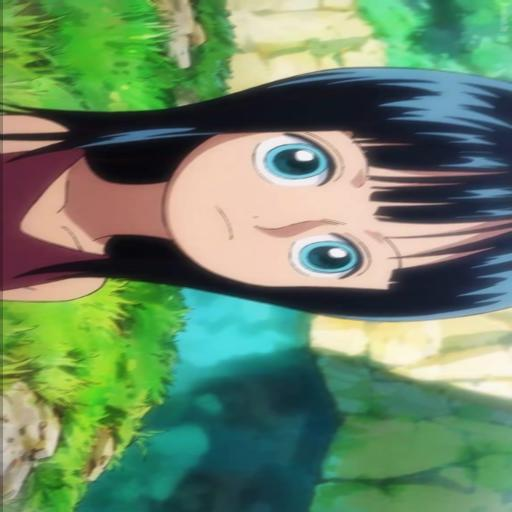NicoRobin: (0, 53, 510, 324)
